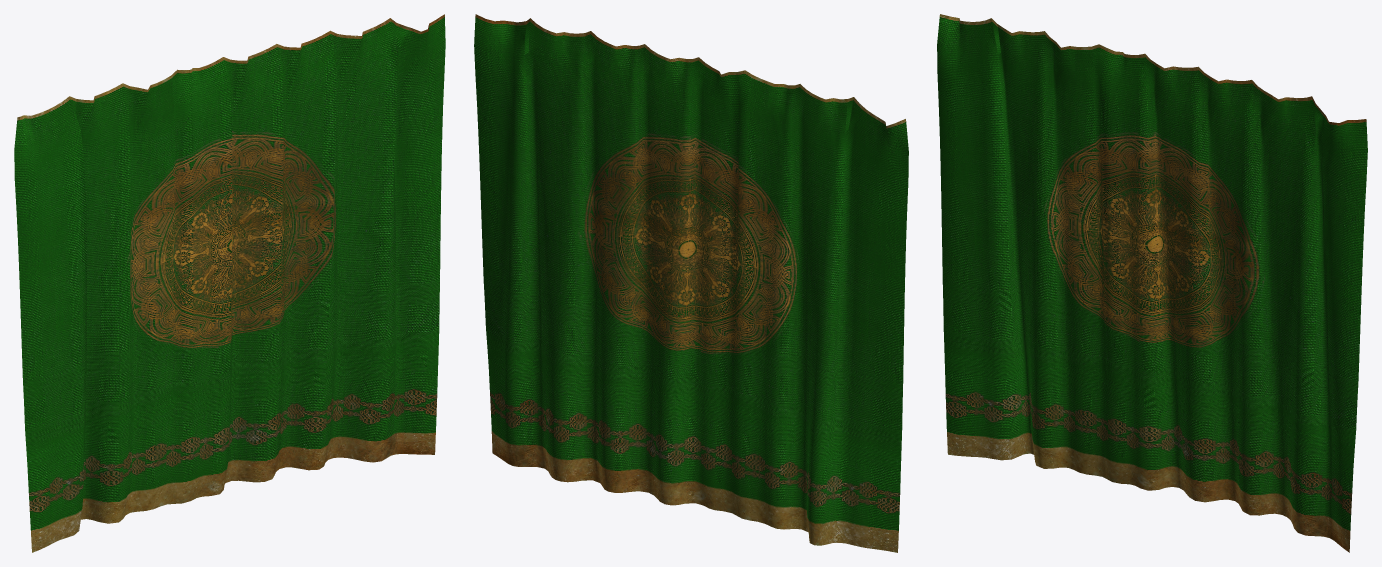
The model's file is sponza_324.gltf.
3 views of the same model, side by side, from view 1: azimuth 30°, elevation 25°; view 2: azimuth 150°, elevation 25°; view 3: azimuth 330°, elevation 25° (orthographic).
Visible parts, largest first — view 1: sponza_324; view 2: sponza_324; view 3: sponza_324.
Part boxes in pixels (left/top/right/bottom): sponza_324: left=14, top=14, right=445, bottom=552; sponza_324: left=474, top=14, right=908, bottom=552; sponza_324: left=937, top=14, right=1367, bottom=552.
Bounding box in the file's own units: 287 × 284 × 25.31.
